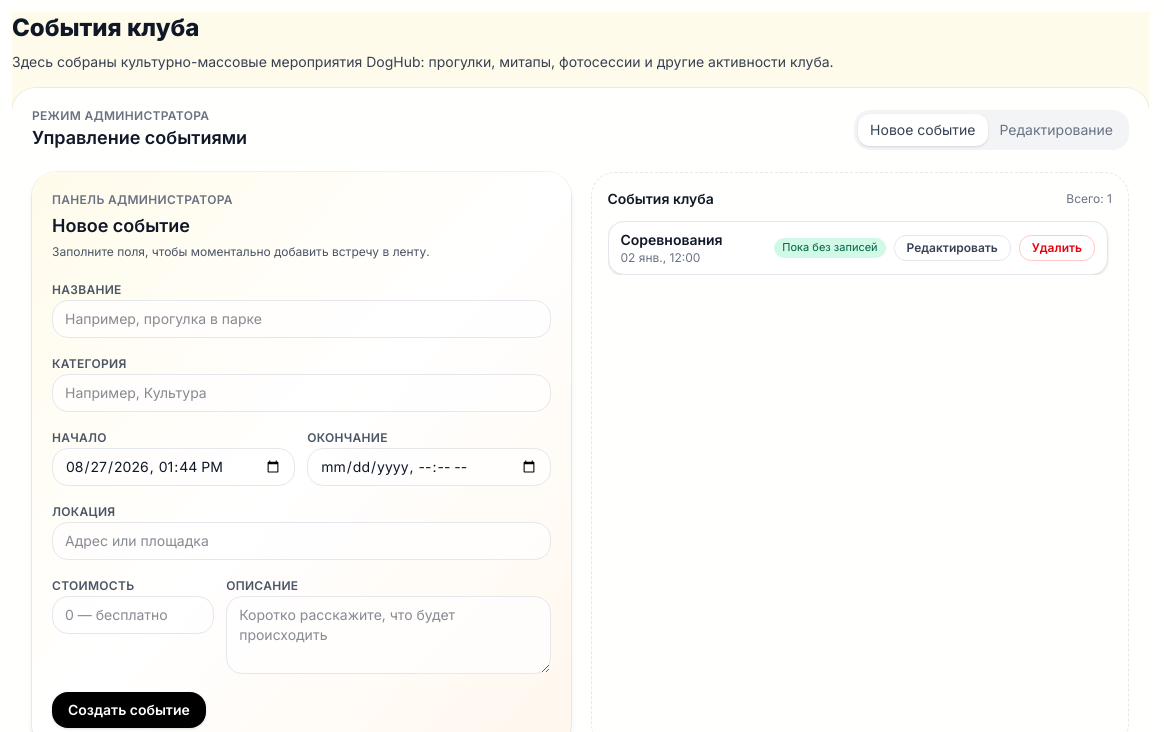
Test: Events page › shows error when delete is requested without token
expect the 1st heading "События клуба" is shown: met, box [12,13,199,42]
Step 1. Click the button "Удалить" → (1057, 248), box [1019,235,1095,261]
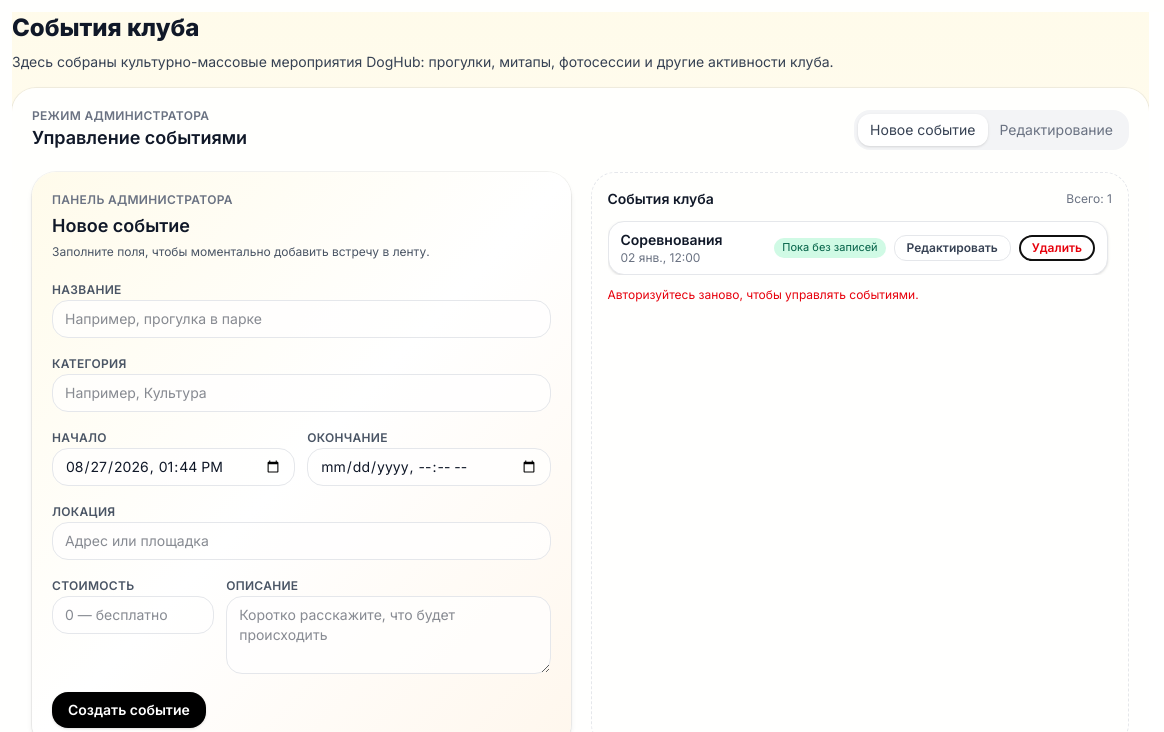
expect the text "Авторизуйтесь заново, чтобы управлять событиями." is shown: met, box [608,287,919,302]
